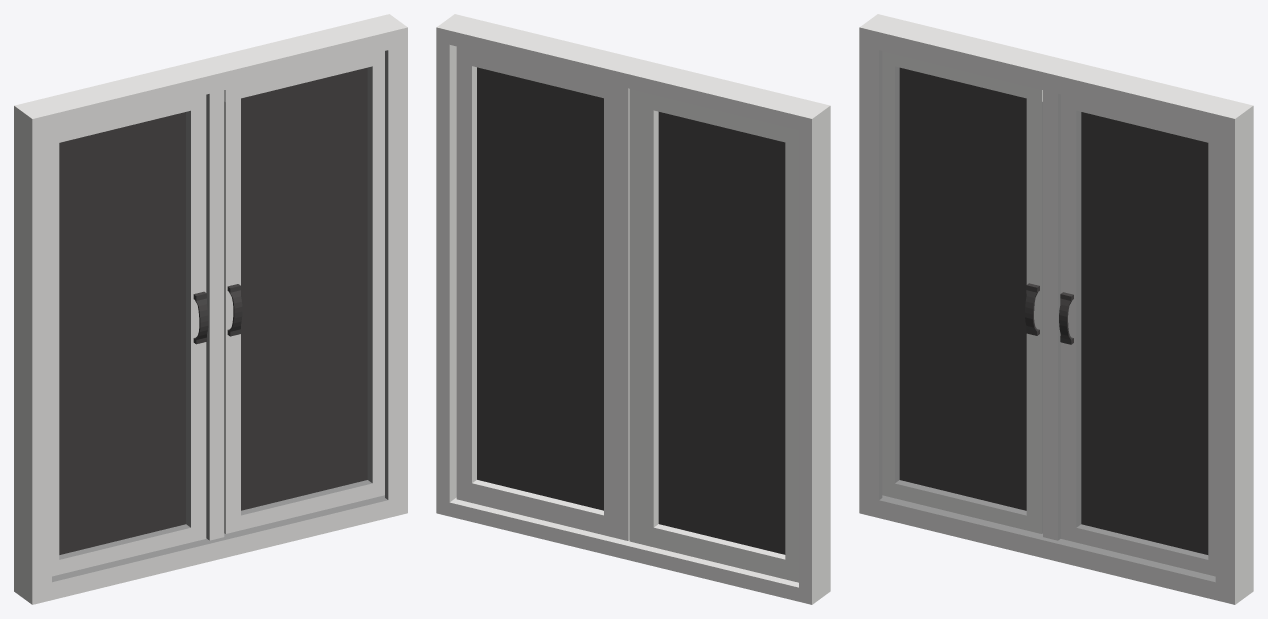
3 renders of one model, left to right at view 1: azimuth 30°, elevation 25°; view 2: azimuth 150°, elevation 25°; view 3: azimuth 330°, elevation 25°, orthographic.
Parts seen in each view (by area): view 1: Windowww; view 2: Windowww; view 3: Windowww.
Boxes of the visible parts, x1,y1,x2,y2 form: Windowww: (14, 14, 407, 604); Windowww: (436, 14, 830, 604); Windowww: (859, 14, 1253, 604).
Size of the model in its own units: 76.24 by 94.26 by 6.91.
